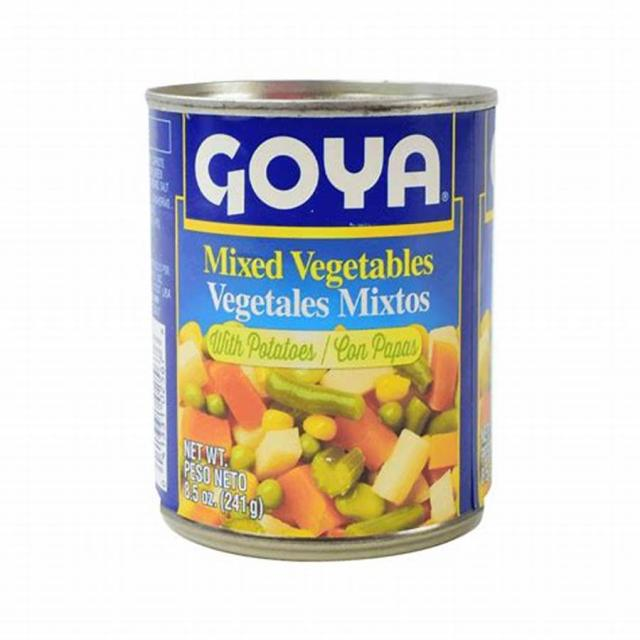Lata: (133, 72, 503, 556)
